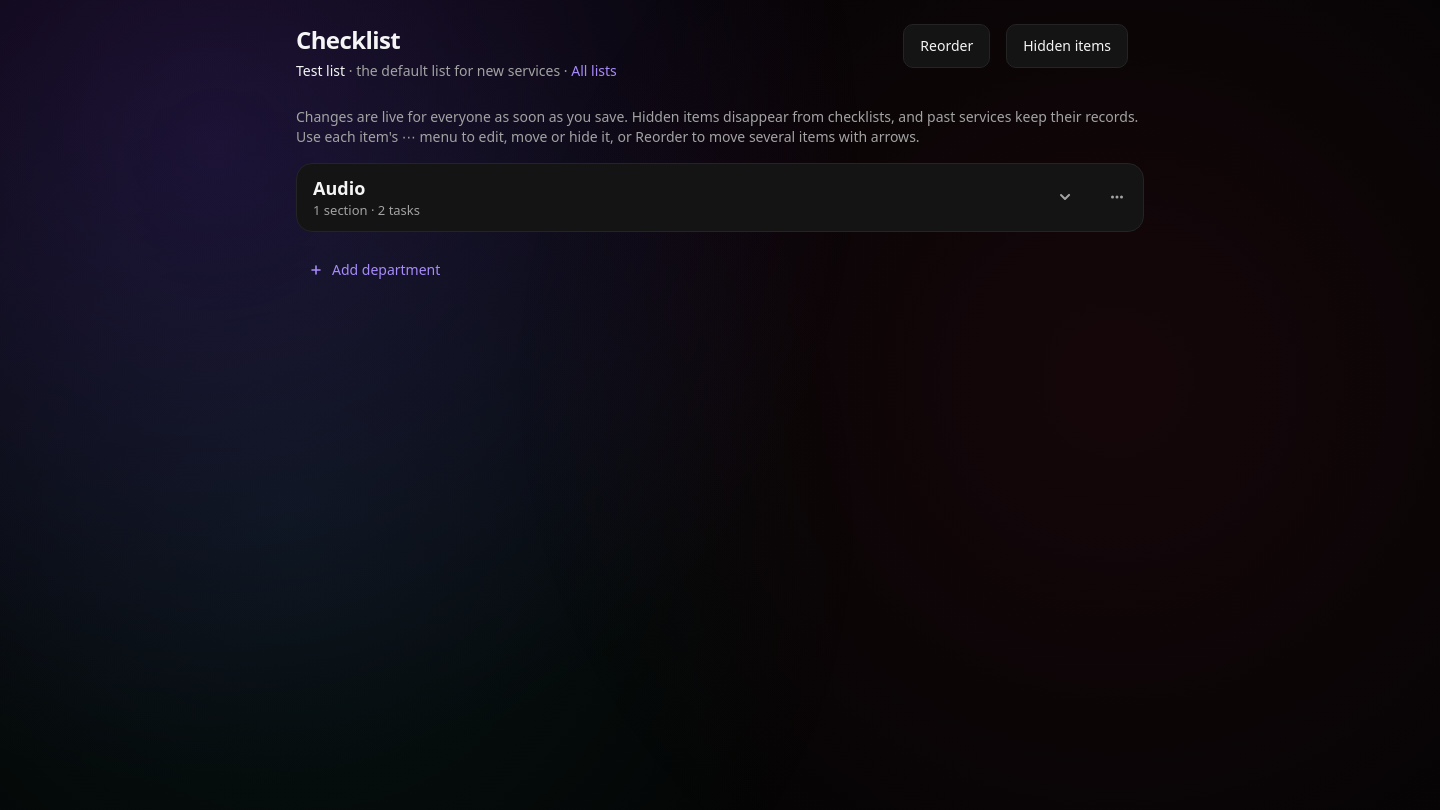
Test: checklist editor › Escape cancels an edit without sending anything
Check: the text "Audio" is shown, box x1=313 y1=176 x2=365 y2=200
Click the button named "Actions for department: Audio": click(1117, 197) x1=1095 y1=175 x2=1139 y2=219
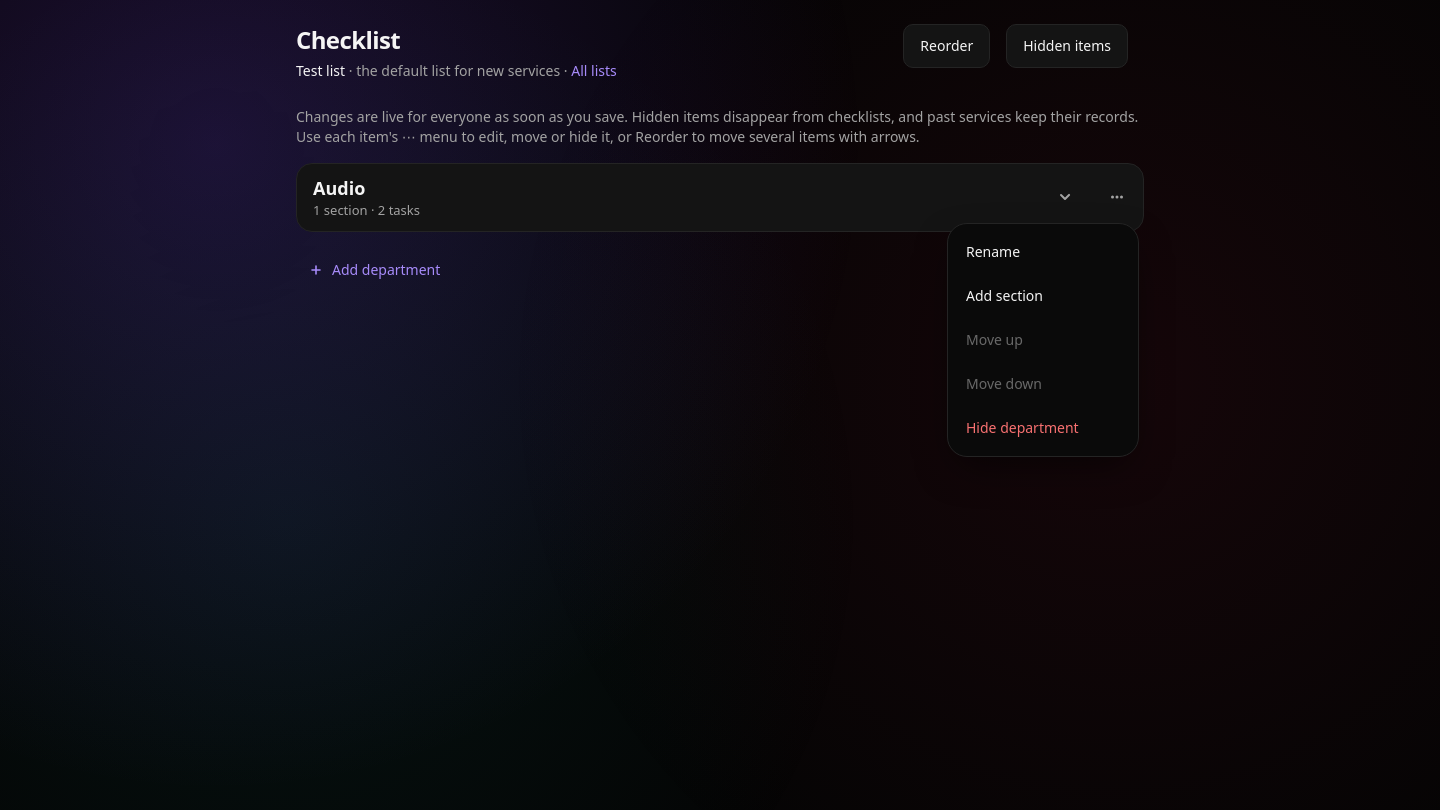
Click the button "Rename": click(1043, 252) x1=954 y1=230 x2=1132 y2=274
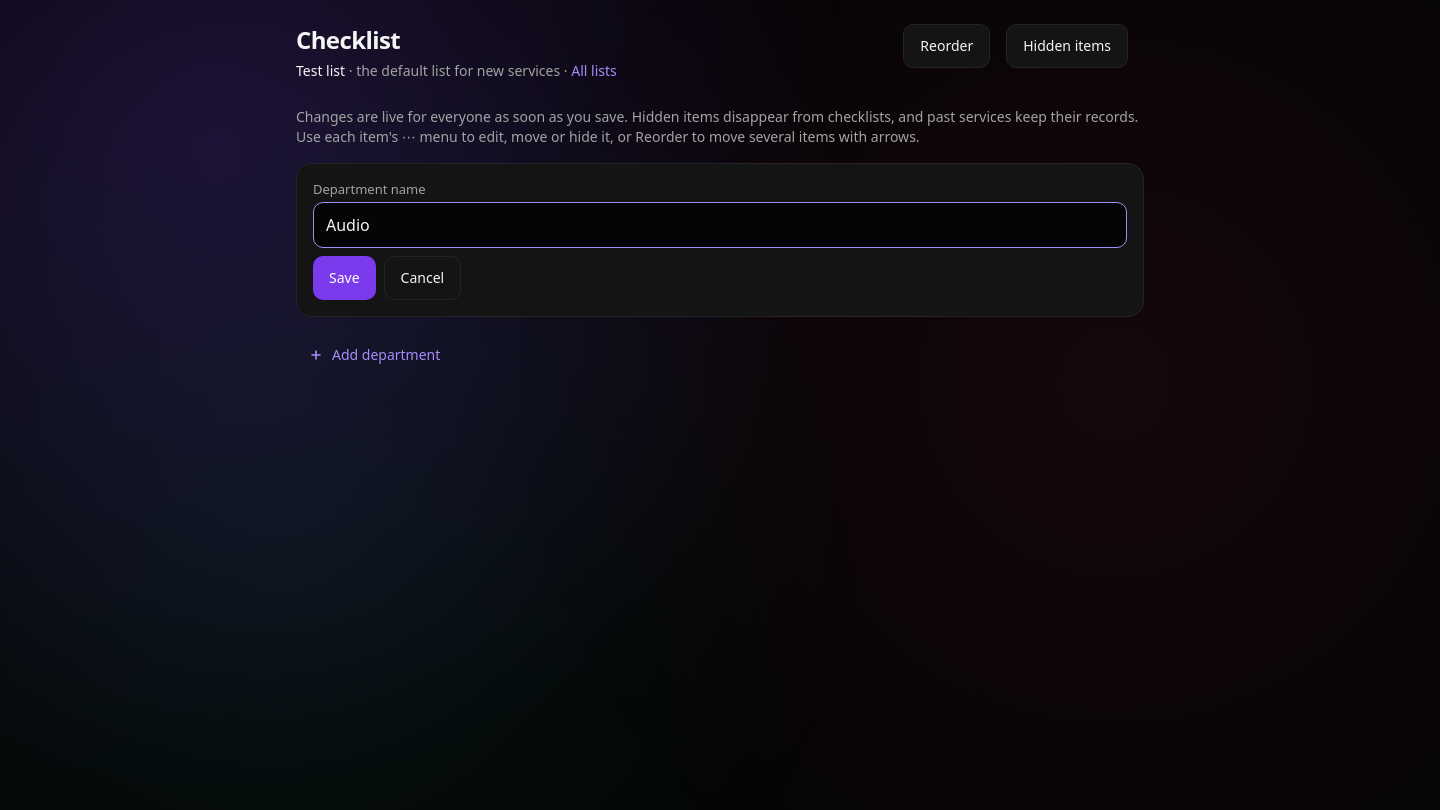
Replace the text in the field labelled "Department name" with "Something else": (720, 225) x1=313 y1=202 x2=1127 y2=248
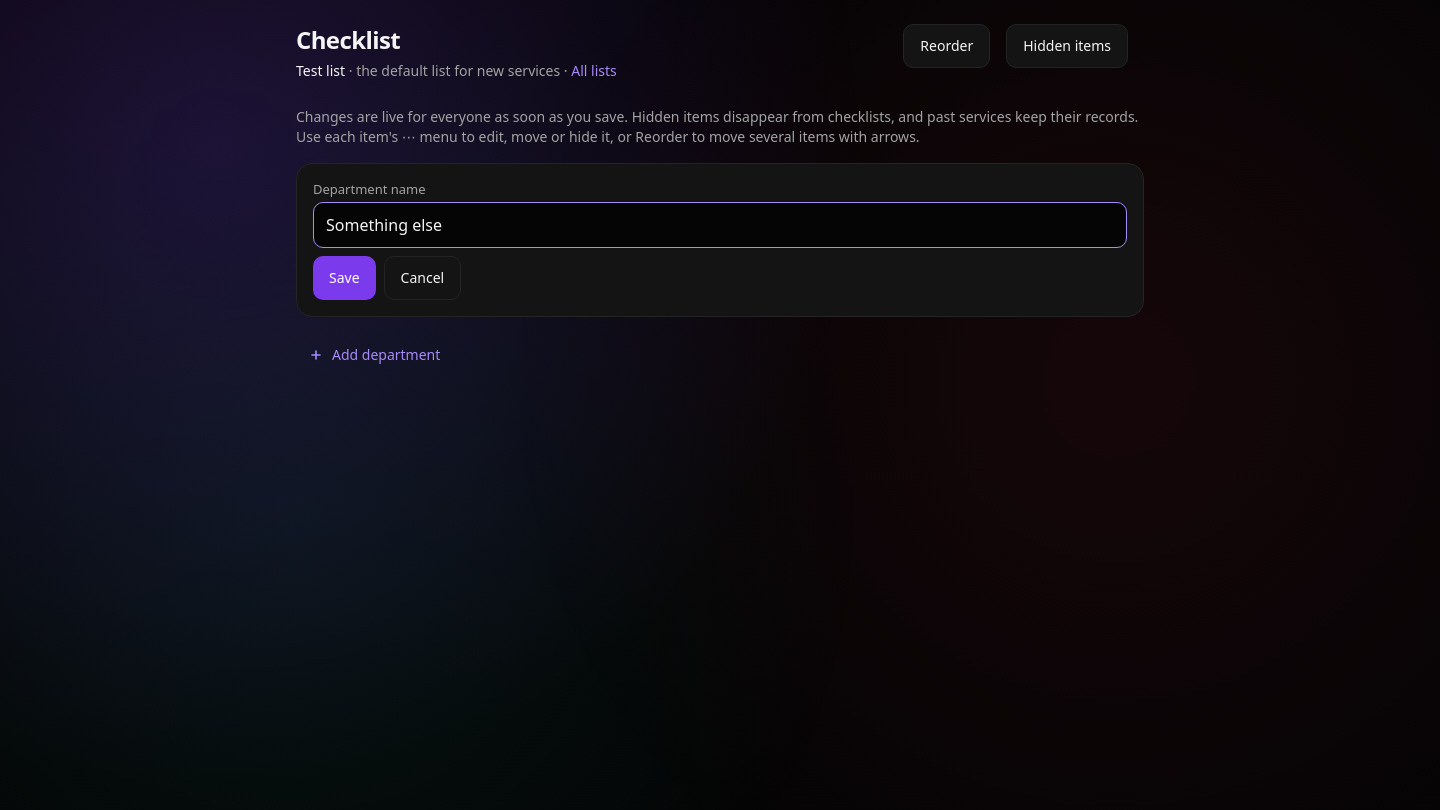
Press Escape in the field labelled "Department name", box x1=313 y1=202 x2=1127 y2=248
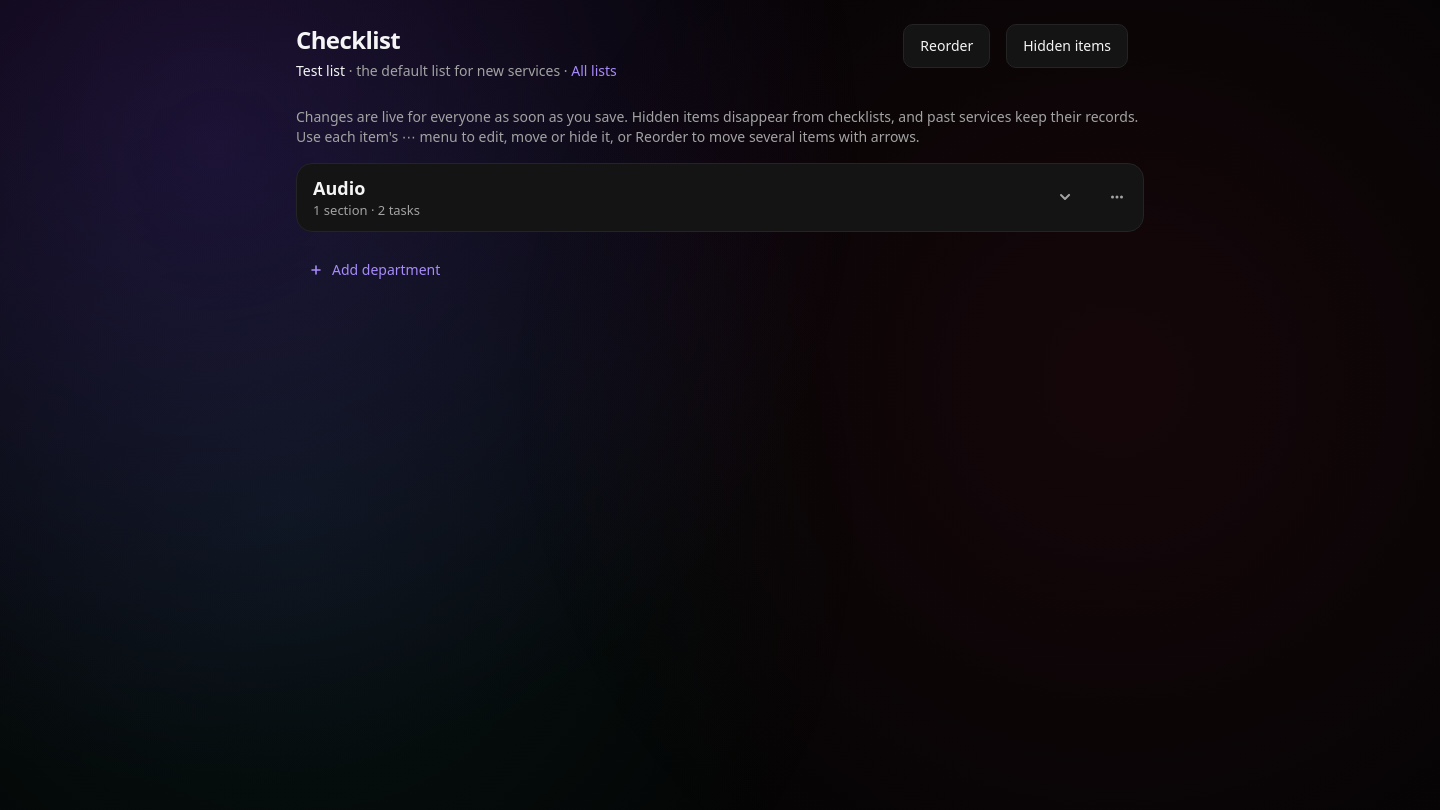
Check: the text "Audio" is shown, box x1=313 y1=176 x2=365 y2=200
